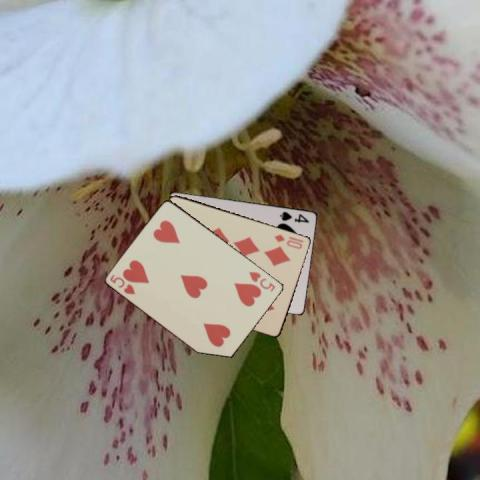10d: (272, 231, 306, 250)
4s: (277, 209, 311, 224)
5h: (107, 271, 137, 296), (246, 269, 277, 293)
